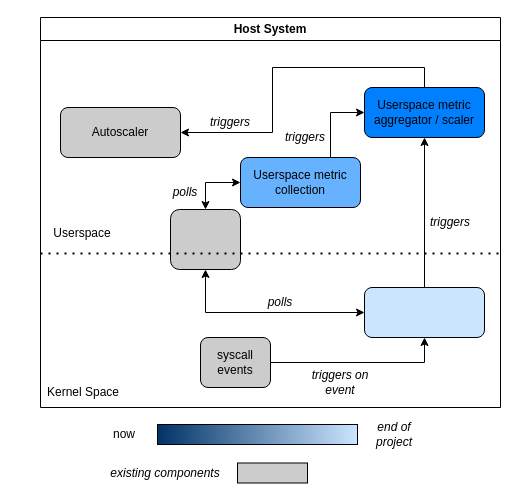
Image size: 519x503. Some labels were removed from this diagram. Here are the shapes that lost their labels. From the top down, the centre of each, then its label:
(x=205, y=239): cgroupfs
(x=424, y=312): Kernel-level metric collection
